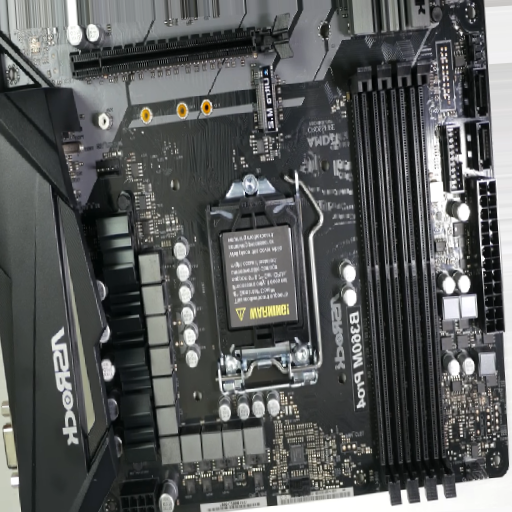CPU: (204, 174, 318, 396)
GPU: (70, 11, 294, 81)
MOTHERBOARD: (2, 1, 502, 508)
RAM: (348, 58, 457, 504)
SSD: (253, 64, 281, 131)
